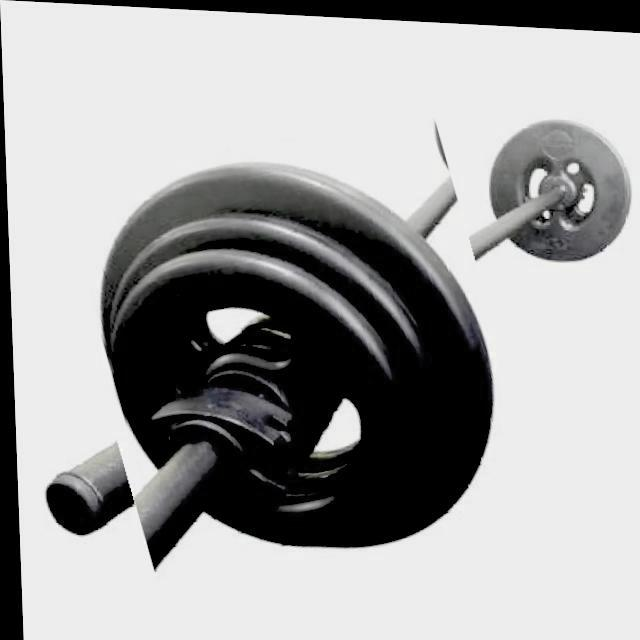barbell: (68, 118, 527, 604)
